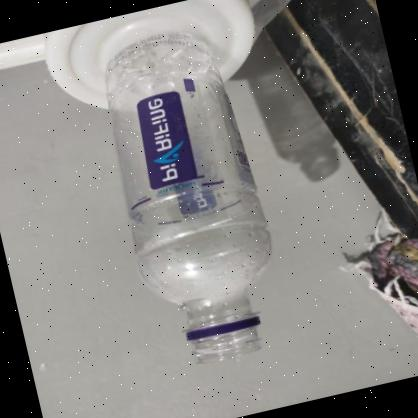bottle: (89, 14, 304, 392)
label: (100, 58, 266, 230)
